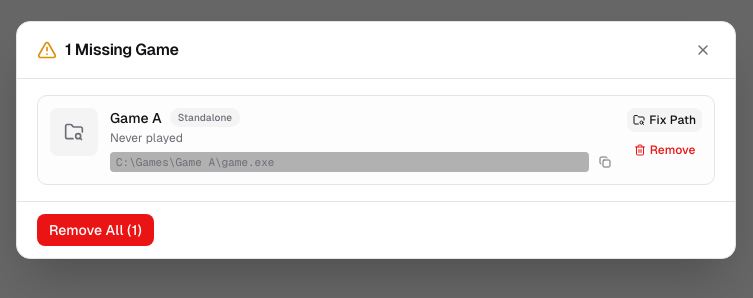
Test: Story 14.2: HealthCheckModal › clicking Remove All shows confirmation dialog
The width and height of the screenshot is (753, 298).
What coordinates should you click on to do the following:
click the button with test id "health-check-remove-all"
I would click on:
 (95, 230)
Its box is left=37, top=214, right=154, bottom=246.
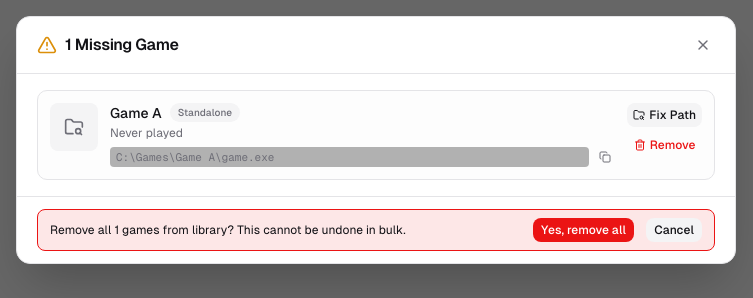
Now the element with test id "health-check-remove-all-confirm" is shown, box left=37, top=209, right=715, bottom=251
